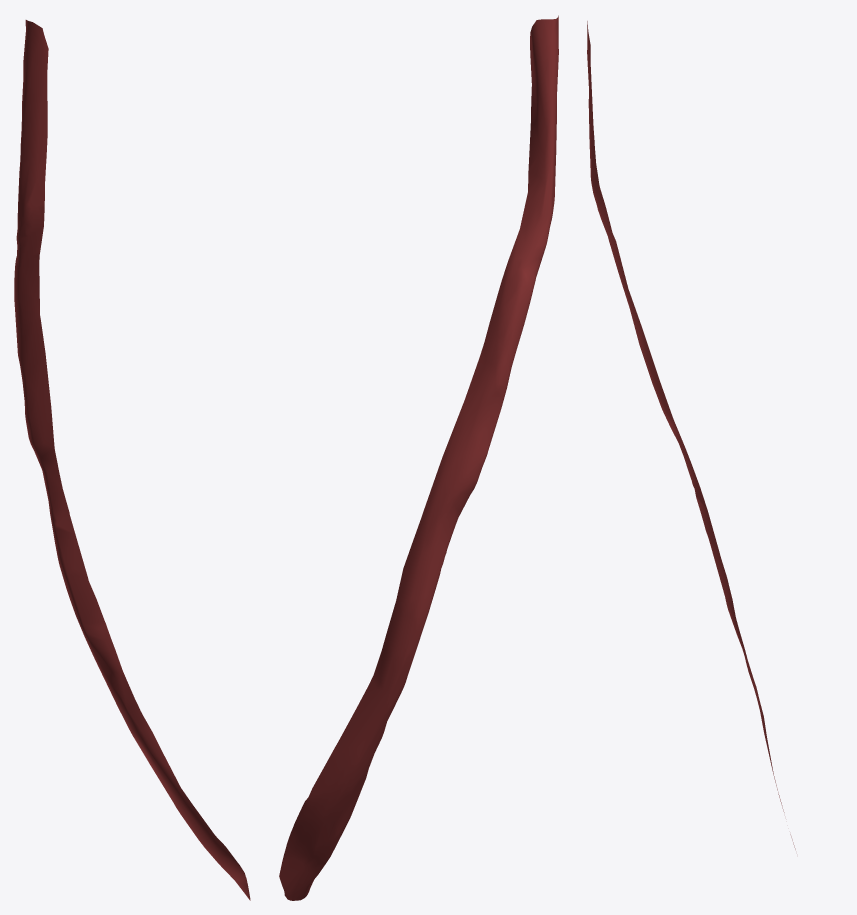
File: rhomboid-major-muscle-el.glb
3 views of the same model, side by side, from view 1: azimuth 30°, elevation 25°; view 2: azimuth 150°, elevation 25°; view 3: azimuth 330°, elevation 25° (orthographic). The views are drawn at different scales.
Parts seen in each view (by area): view 1: Rhomboid major muscle.el; view 2: Rhomboid major muscle.el; view 3: Rhomboid major muscle.el.
Boxes of the visible parts, x1,y1,x2,y2 form: Rhomboid major muscle.el: [14, 20, 250, 900]; Rhomboid major muscle.el: [279, 15, 558, 900]; Rhomboid major muscle.el: [587, 21, 795, 849].
Bounding box in the file's own units: 0.0276 × 0.0998 × 0.0129.
